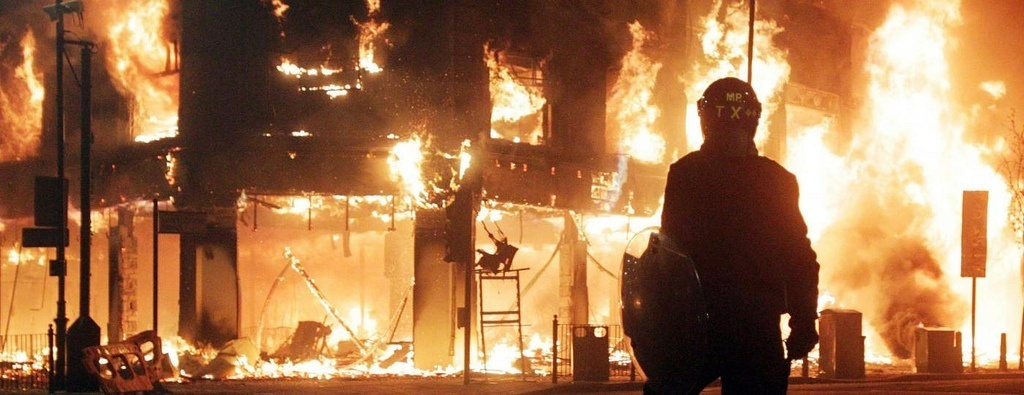fire: (184, 0, 975, 387)
